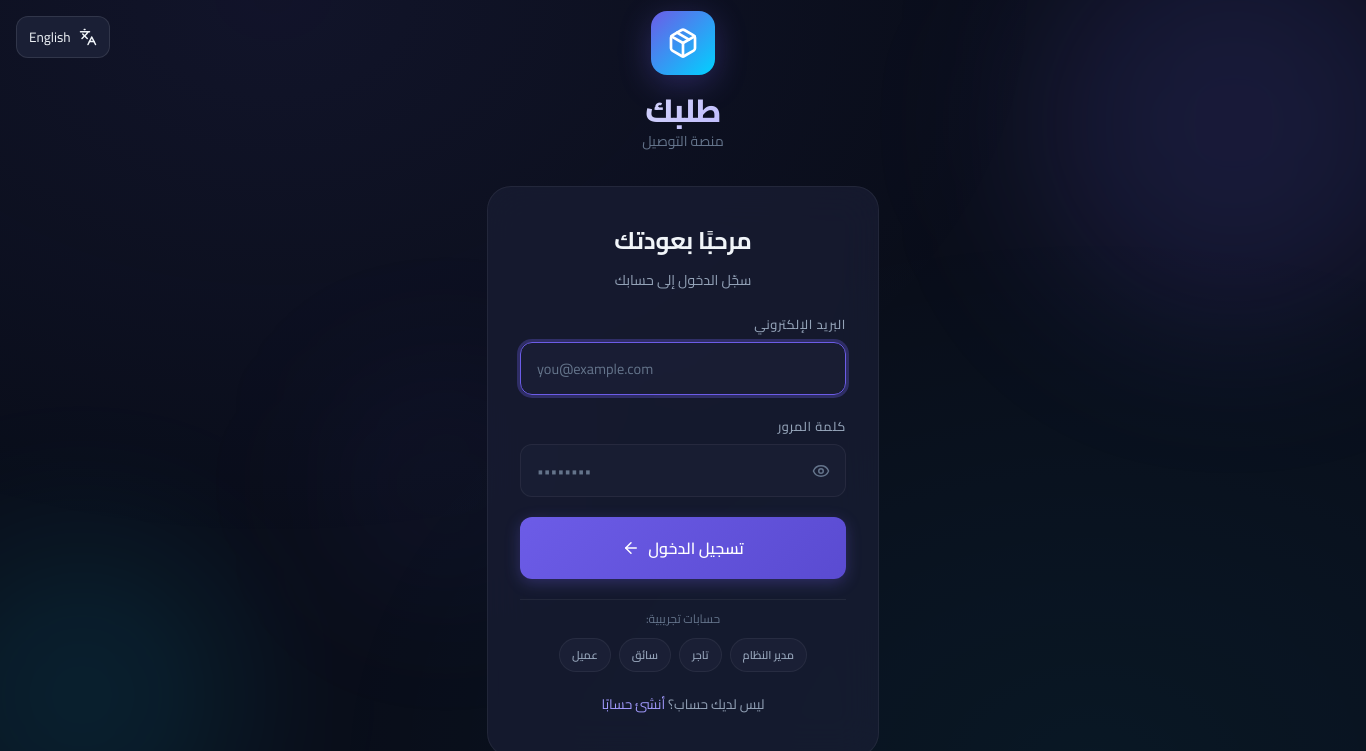
Test: Arabic and English UI › translates a login failure and keeps the REST credentials unchanged
Type "customer@example.test" into the field labelled "البريد الإلكتروني". click: (683, 369)
box: [520, 342, 846, 395]
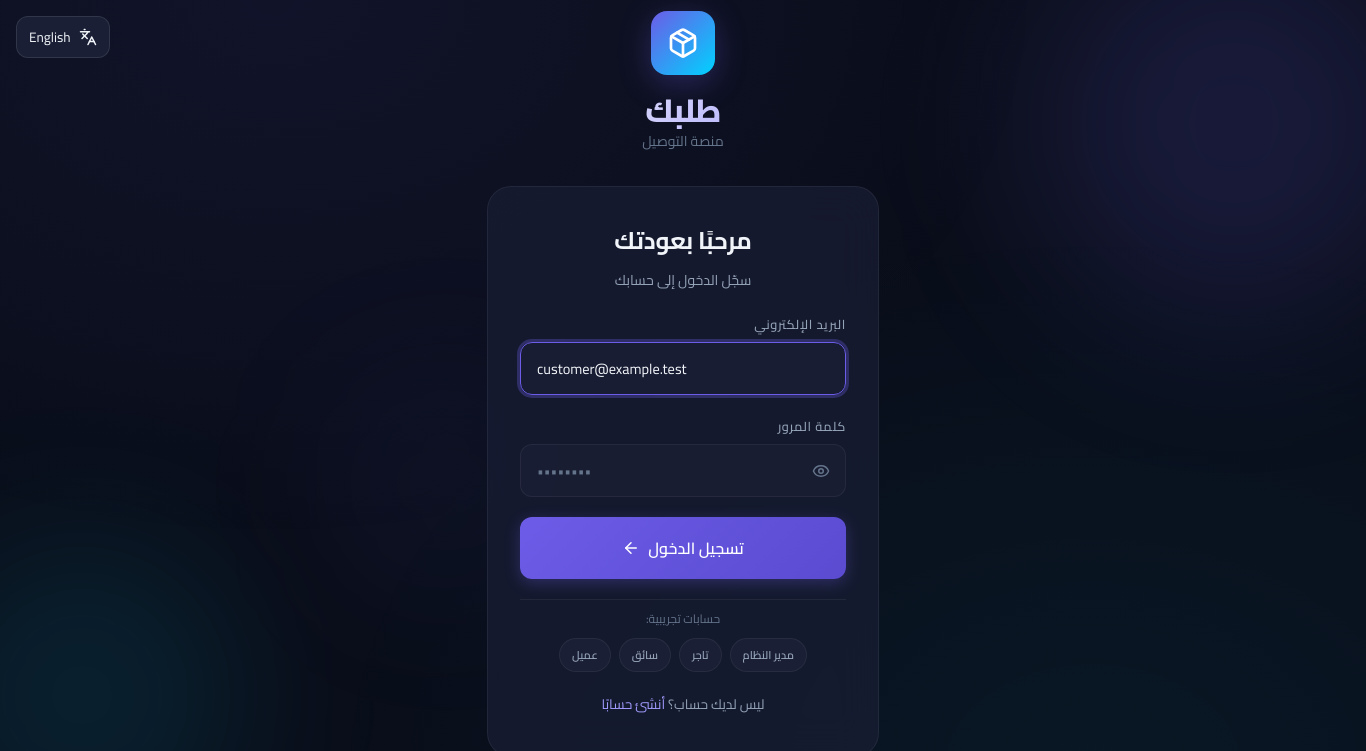
Type "Example123!" into the password field labelled "كلمة المرور". click: (683, 471)
box: [520, 444, 846, 497]
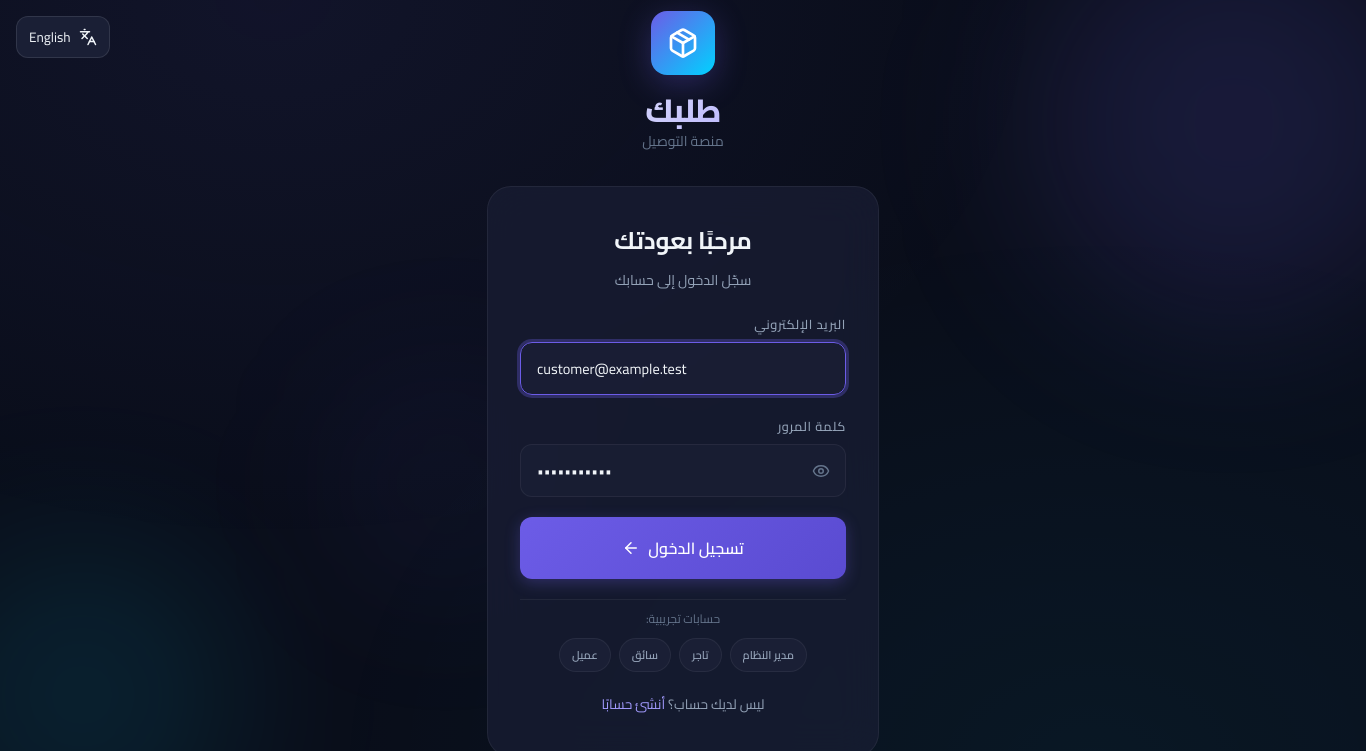
Click the button "تسجيل الدخول". click: (683, 548)
box: [520, 517, 846, 579]
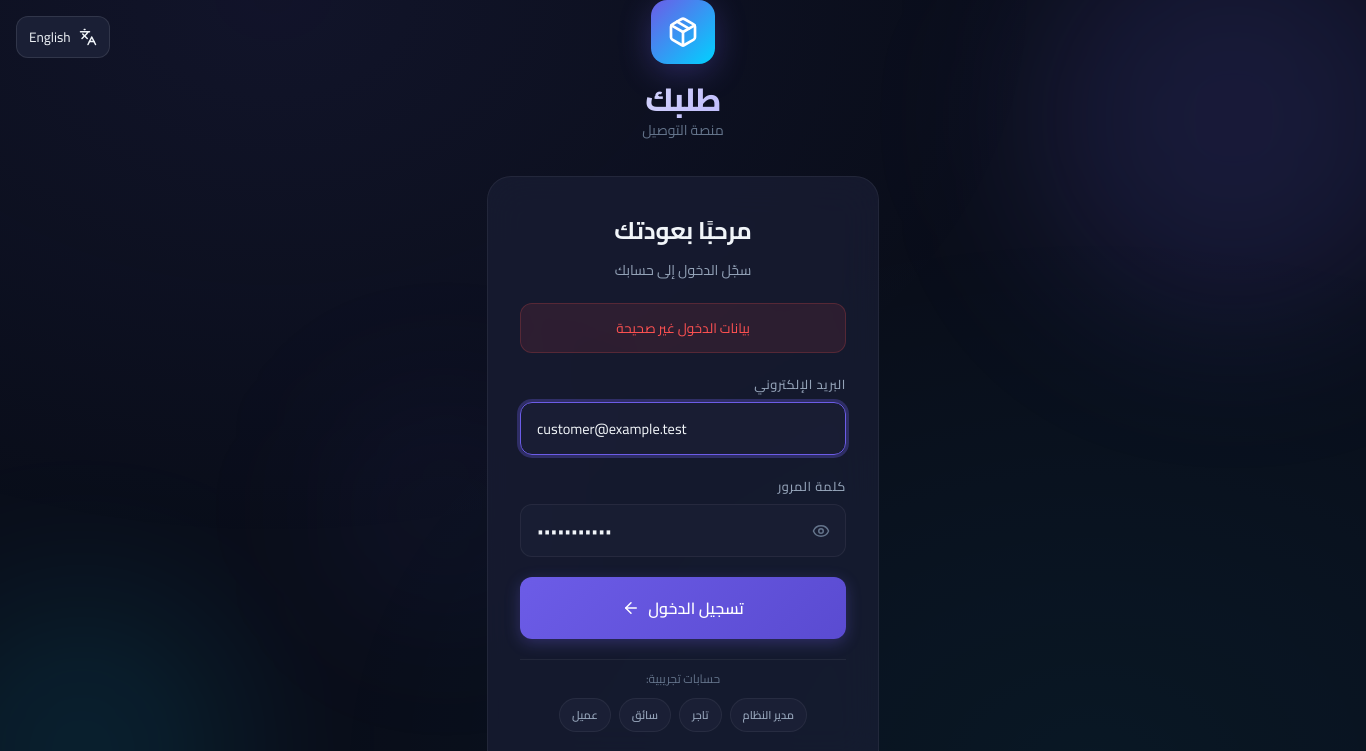
Check: the message reads "بيانات الدخول غير صحيحة", box [616, 315, 750, 341]
Click the button with aria-label "التبديل إلى الإنجليزية". click: (63, 37)
box: [16, 16, 110, 58]
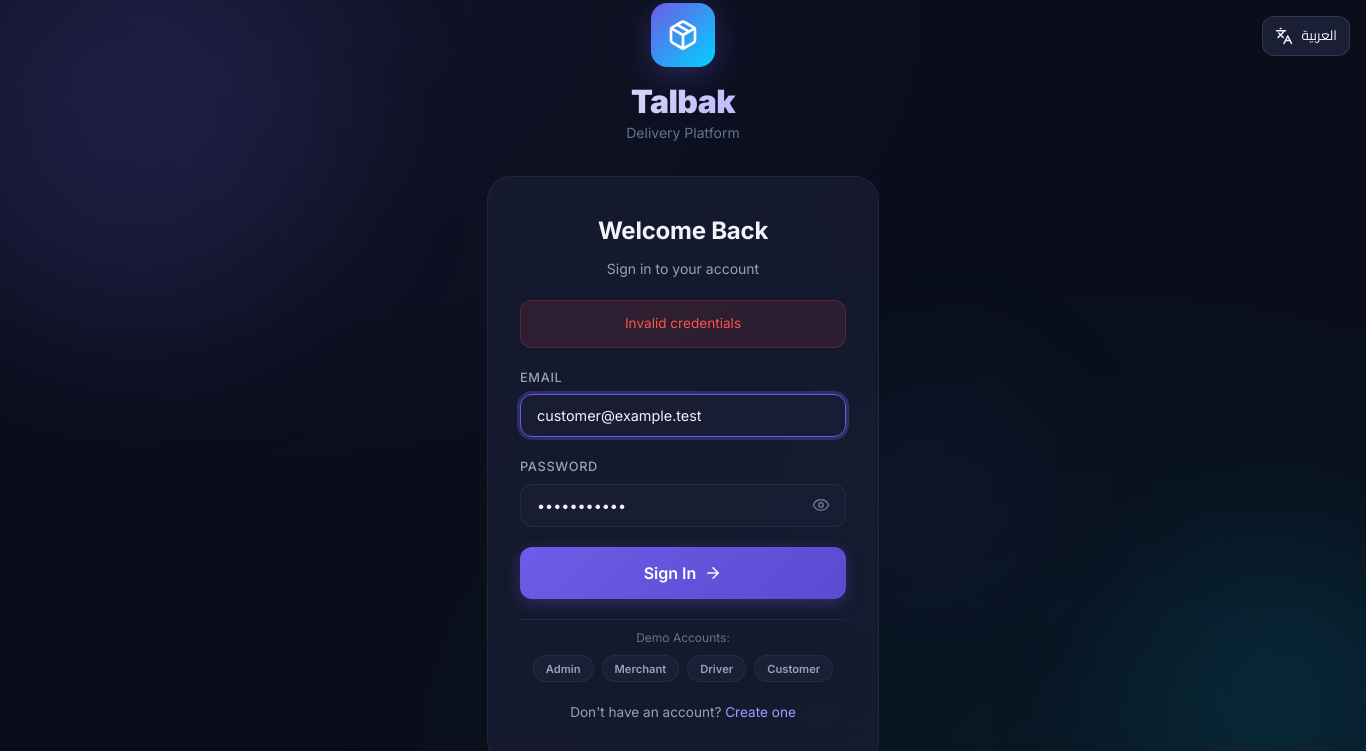
Check: the message reads "Invalid credentials", box [625, 315, 741, 331]
